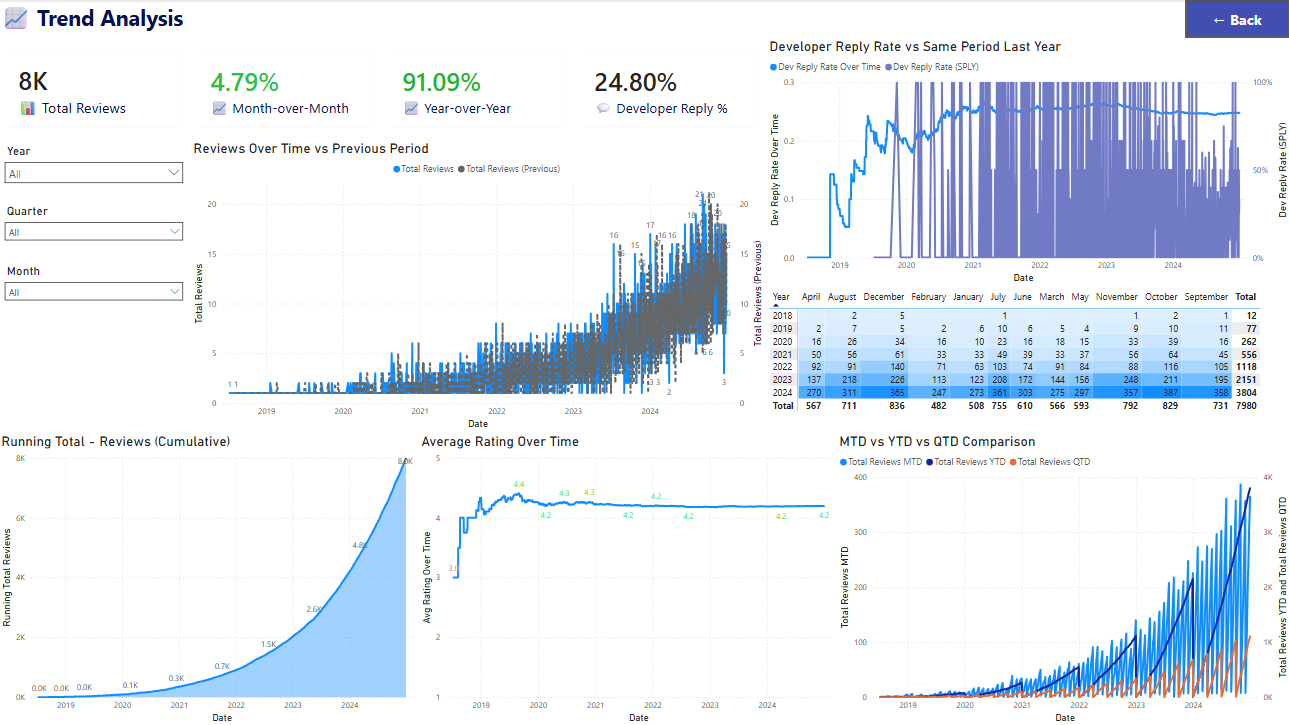

The dashboard page shown, as its layout file describes it:
{"tool":"powerbi","page":{"name":"Trend Analysis","canvas":[1920,1080],"ordinal":1},"visuals":[{"type":"textbox","title":" ","box":[0,0,285.4,57.7],"z":0},{"type":"cardVisual","fields":{"Data":["apps.Total Reviews"]},"box":[0,57.7,285.4,151.3],"z":1000},{"type":"cardVisual","fields":{"Data":["apps.MoM Change %"]},"box":[285.4,57.7,285.4,151.3],"z":2000},{"type":"cardVisual","fields":{"Data":["apps.YoY Change %"]},"box":[570.9,57.7,285.4,151.3],"z":3000},{"type":"cardVisual","fields":{"Data":["apps.Dev Reply Rate"]},"box":[856.3,57.7,285.4,151.3],"z":4000},{"type":"actionButton","box":[1763.6,0,156.4,58.3],"z":4001},{"type":"slicer","fields":{"Values":["reviews.review_year"]},"box":[0,210.1,285.2,88.9],"z":4002},{"type":"slicer","fields":{"Values":["reviews.review_quarter"]},"box":[0,299,285.2,88.9],"z":4003},{"type":"slicer","fields":{"Values":["reviews.review_month_name"]},"box":[0,388,285.2,88.9],"z":4004},{"type":"lineChart","title":"Reviews Over Time vs Previous Period","fields":{"Category":["dim_date.Date"],"Y":["apps.Total Reviews"],"Y2":["apps.Total Reviews (Previous)"]},"box":[285.2,210.1,855.7,434],"z":4005},{"type":"areaChart","title":"Running Total - Reviews (Cumulative)","fields":{"Category":["dim_date.Date"],"Y":["apps.Running Total Reviews"]},"box":[0,644.1,624.2,435.5],"z":4006},{"type":"lineChart","title":"Average Rating Over Time","fields":{"Y":["apps.Avg Rating Over Time"],"Category":["dim_date.Date"]},"box":[624.2,644.1,621.1,435.5],"z":4007},{"type":"lineChart","title":"MTD vs YTD vs QTD Comparison","fields":{"Category":["dim_date.Date"],"Y":["apps.Total Reviews MTD"],"Y2":["apps.Total Reviews YTD","apps.Total Reviews QTD"]},"box":[1245,644,675,436],"z":4008},{"type":"pivotTable","fields":{"Rows":["reviews.review_year"],"Columns":["reviews.review_month_name"],"Values":["apps.Total Reviews"]},"box":[1141,427.9,779,216.2],"z":4009},{"type":"lineChart","title":"Developer Reply Rate vs Same Period Last Year","fields":{"Category":["dim_date.Date"],"Y":["apps.Dev Reply Rate Over Time"],"Y2":["apps.Dev Reply Rate (SPLY)"]},"box":[1141,58.3,779,369.6],"z":4010}]}

Visuals, with their boxes in screenshot pixels (x1, y1, x2, y2), scaled from the page's 1920x1080 canvas onto the 1289x725 screenshot:
" " textbox: (x1=0, y1=0, x2=192, y2=39)
cardVisual - apps.Total Reviews: (x1=0, y1=39, x2=192, y2=140)
cardVisual - apps.MoM Change %: (x1=192, y1=39, x2=383, y2=140)
cardVisual - apps.YoY Change %: (x1=383, y1=39, x2=575, y2=140)
cardVisual - apps.Dev Reply Rate: (x1=575, y1=39, x2=766, y2=140)
actionButton: (x1=1184, y1=0, x2=1288, y2=39)
slicer - reviews.review_year: (x1=0, y1=141, x2=191, y2=201)
slicer - reviews.review_quarter: (x1=0, y1=201, x2=191, y2=260)
slicer - reviews.review_month_name: (x1=0, y1=260, x2=191, y2=320)
"Reviews Over Time vs Previous Period" lineChart: (x1=191, y1=141, x2=766, y2=432)
"Running Total - Reviews (Cumulative)" areaChart: (x1=0, y1=432, x2=419, y2=724)
"Average Rating Over Time" lineChart: (x1=419, y1=432, x2=836, y2=724)
"MTD vs YTD vs QTD Comparison" lineChart: (x1=836, y1=432, x2=1288, y2=724)
pivotTable - reviews.review_year x reviews.review_month_name: (x1=766, y1=287, x2=1288, y2=432)
"Developer Reply Rate vs Same Period Last Year" lineChart: (x1=766, y1=39, x2=1288, y2=287)
